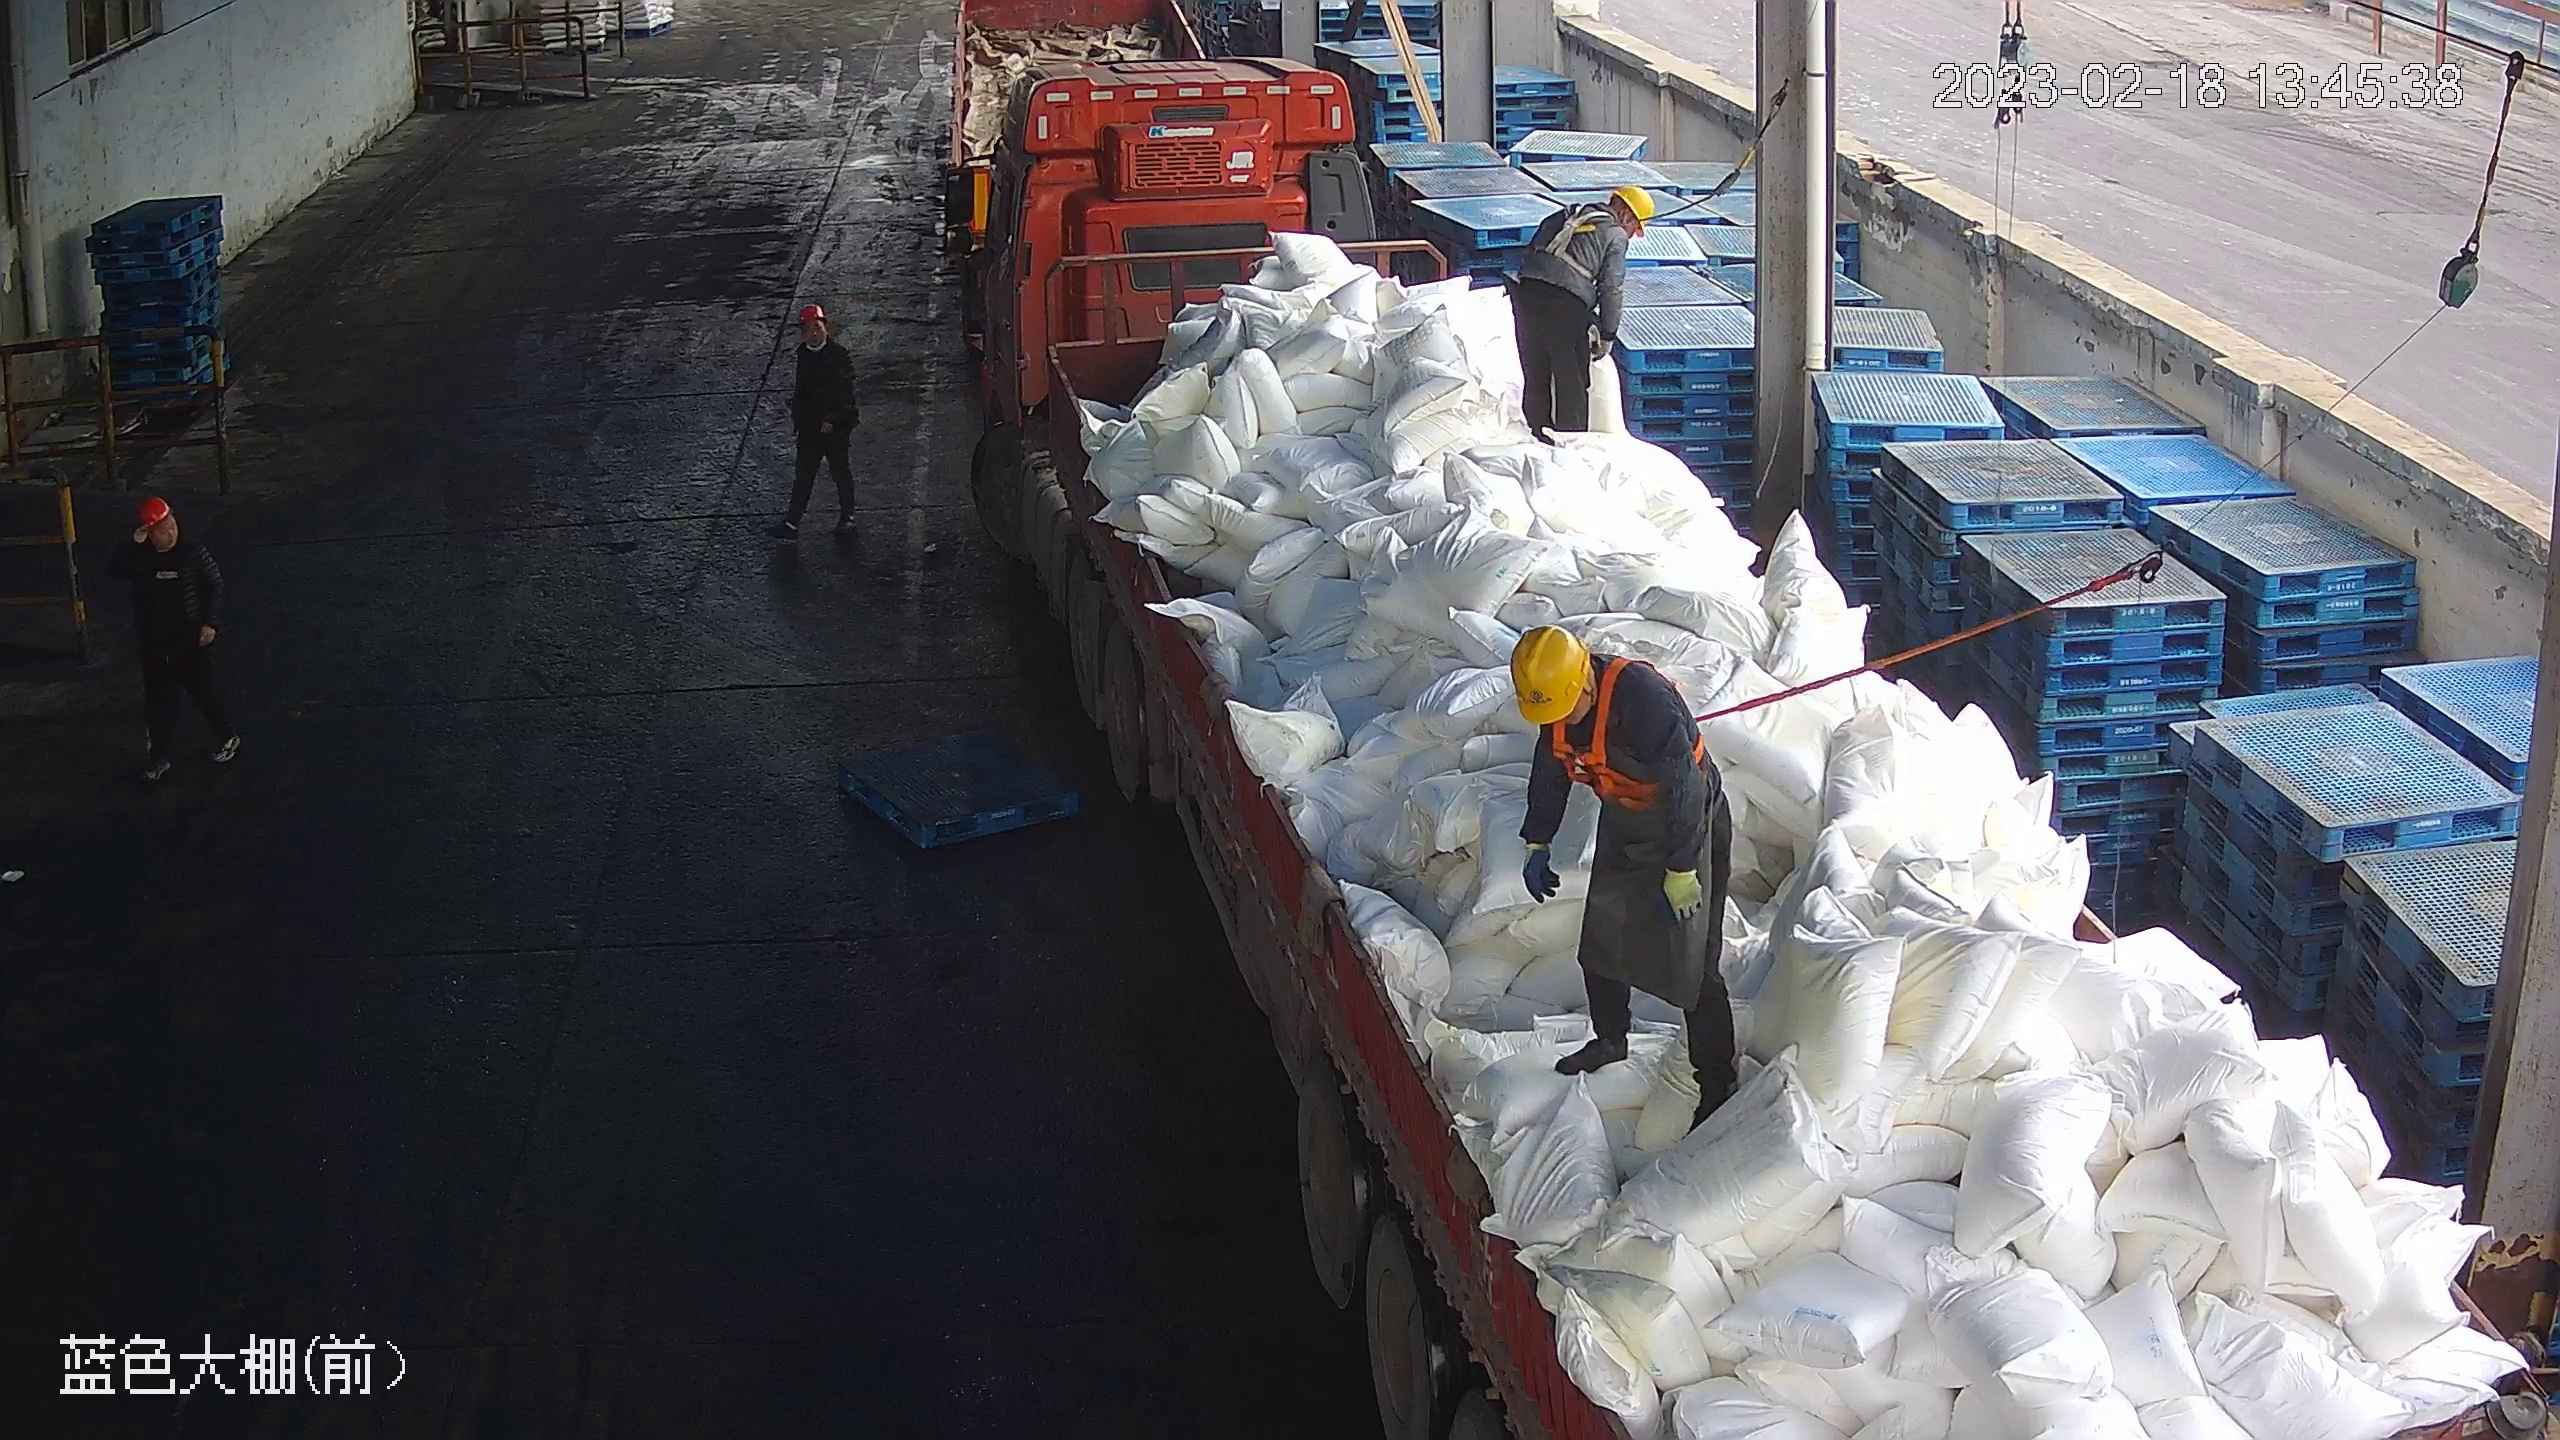belt: (1555, 647, 1705, 818), (1536, 207, 1611, 275)
head: (1507, 622, 1685, 772), (1539, 181, 1656, 261), (127, 498, 215, 599), (791, 300, 855, 385)
helmet: (1508, 624, 1592, 724), (1608, 181, 1657, 233), (135, 497, 174, 530), (795, 299, 831, 326)
people: (1507, 619, 1759, 1127), (1503, 180, 1658, 444), (122, 495, 246, 783), (771, 300, 865, 544)
truck: (939, 57, 2556, 1440)
